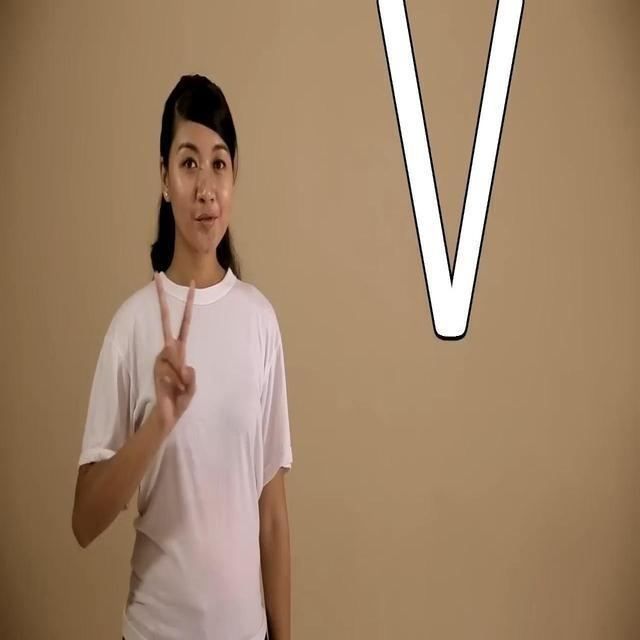V: (142, 255, 205, 452)
